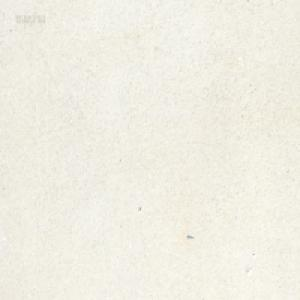Nail: (186, 233, 193, 238)
